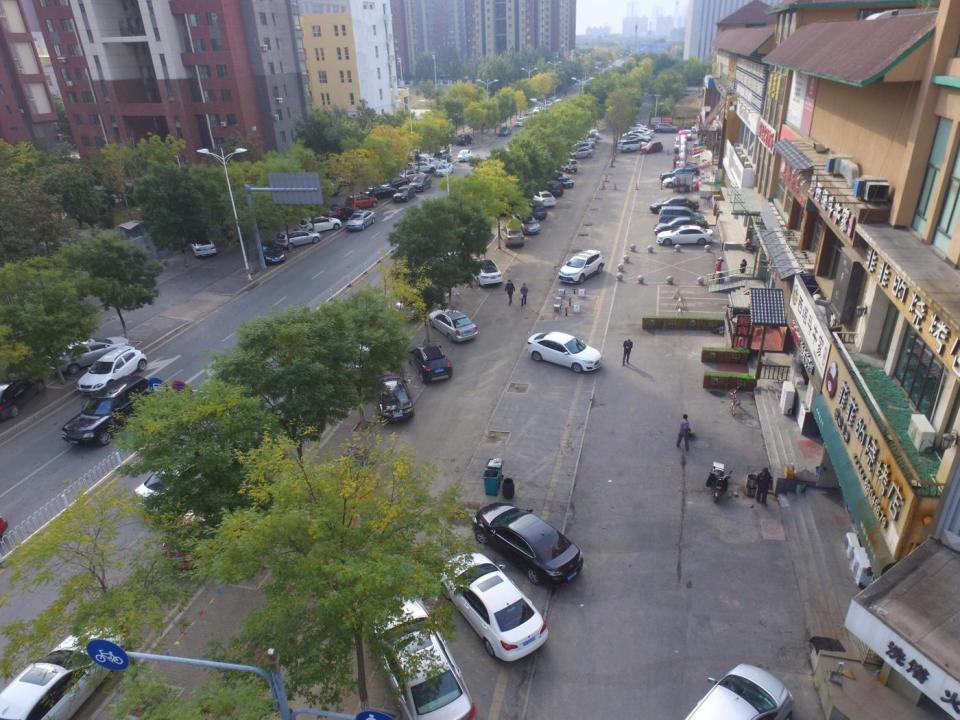car: (364, 592, 479, 720), (0, 621, 132, 717), (444, 552, 548, 662), (472, 503, 581, 584), (136, 439, 243, 517), (680, 664, 798, 719), (61, 375, 146, 449), (43, 333, 125, 381), (525, 329, 602, 373), (74, 349, 145, 395), (374, 373, 415, 426), (0, 374, 41, 424), (406, 341, 452, 383), (429, 310, 477, 342), (559, 251, 603, 285), (656, 224, 713, 246), (393, 288, 428, 320), (657, 206, 706, 228), (654, 218, 708, 236), (276, 228, 322, 248), (470, 258, 502, 286), (507, 208, 541, 234), (187, 229, 216, 259), (650, 197, 700, 213), (298, 216, 341, 232), (660, 167, 700, 184), (346, 210, 376, 232), (258, 240, 284, 265), (520, 198, 547, 220), (497, 227, 526, 246), (529, 187, 556, 207), (663, 175, 704, 188), (361, 185, 396, 200), (344, 194, 376, 210), (617, 139, 648, 154), (323, 206, 352, 222), (394, 185, 417, 205), (406, 161, 436, 176), (541, 178, 564, 197), (377, 178, 408, 191), (410, 175, 431, 193), (550, 172, 573, 188), (396, 170, 424, 183), (558, 156, 578, 174), (622, 132, 651, 144), (569, 147, 593, 160), (641, 142, 663, 154), (625, 130, 649, 141), (654, 122, 678, 133), (623, 124, 649, 134), (420, 158, 445, 168), (436, 162, 452, 177), (456, 149, 471, 163), (456, 134, 472, 147), (577, 138, 595, 148), (499, 126, 512, 137), (589, 129, 600, 140), (681, 129, 692, 140), (514, 118, 526, 127), (548, 96, 558, 106), (522, 112, 533, 121), (586, 134, 596, 143), (545, 100, 554, 109), (532, 107, 541, 114)
van: (674, 137, 688, 154), (434, 150, 452, 163), (573, 142, 592, 152)
